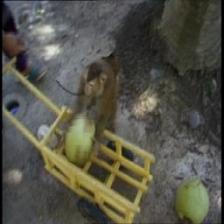monkey: (80, 60, 110, 102)
